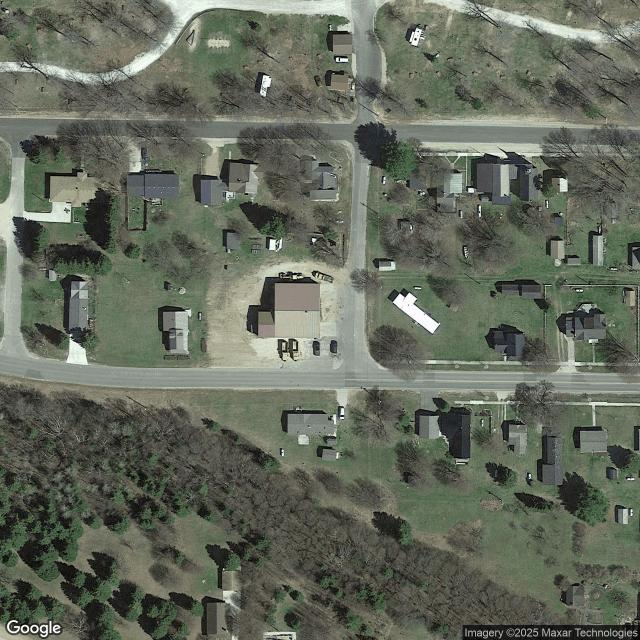Propane: (478, 205, 482, 218), (627, 477, 635, 481), (198, 313, 202, 321), (459, 211, 463, 219), (281, 449, 284, 457), (481, 419, 484, 427), (630, 509, 633, 517), (39, 267, 47, 270), (336, 220, 344, 223), (414, 287, 422, 290), (546, 200, 549, 208), (610, 268, 618, 271), (576, 289, 584, 292), (383, 177, 386, 184), (329, 25, 332, 31)
